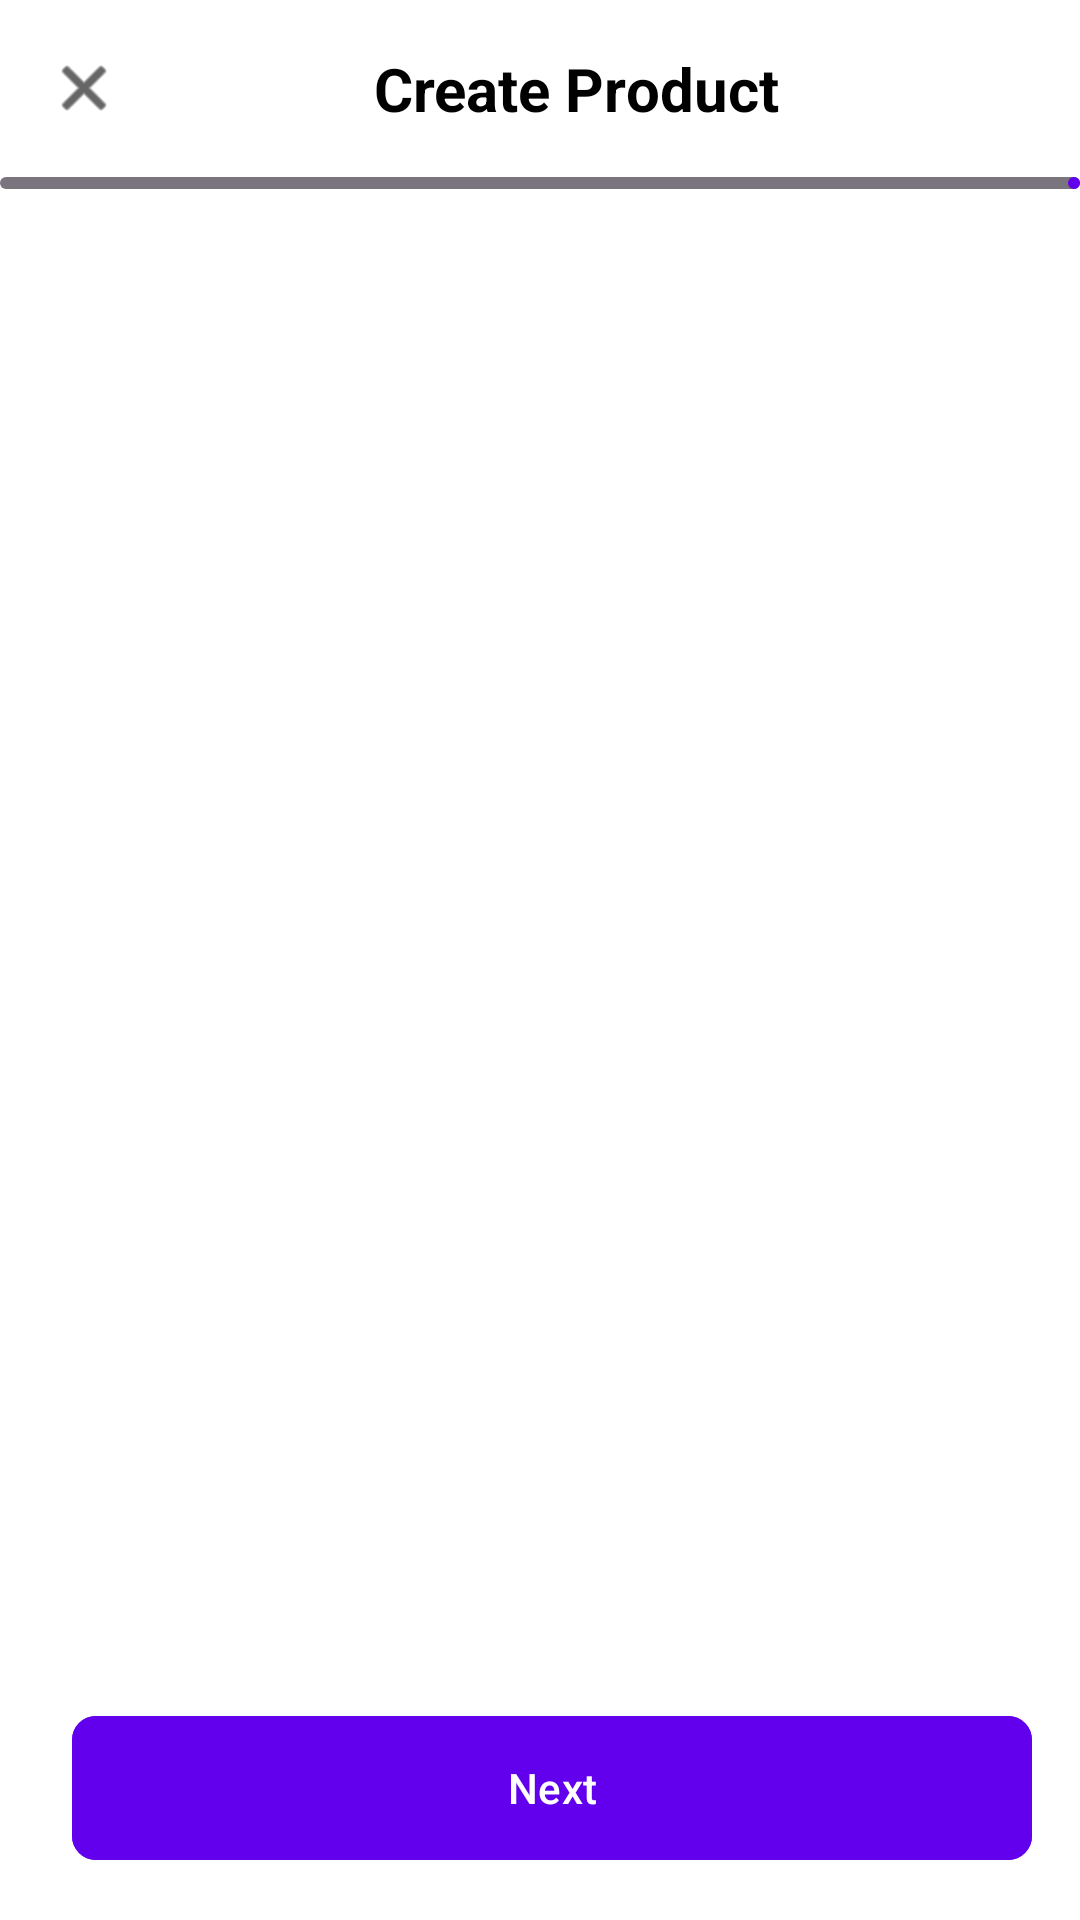

Locate icon controls on the screen. Image size 1080px x 1920px, boxes as [x1=x1, y1=y1, x2=x2, y2=y2].
Close: [x1=61, y1=65, x2=107, y2=111]
